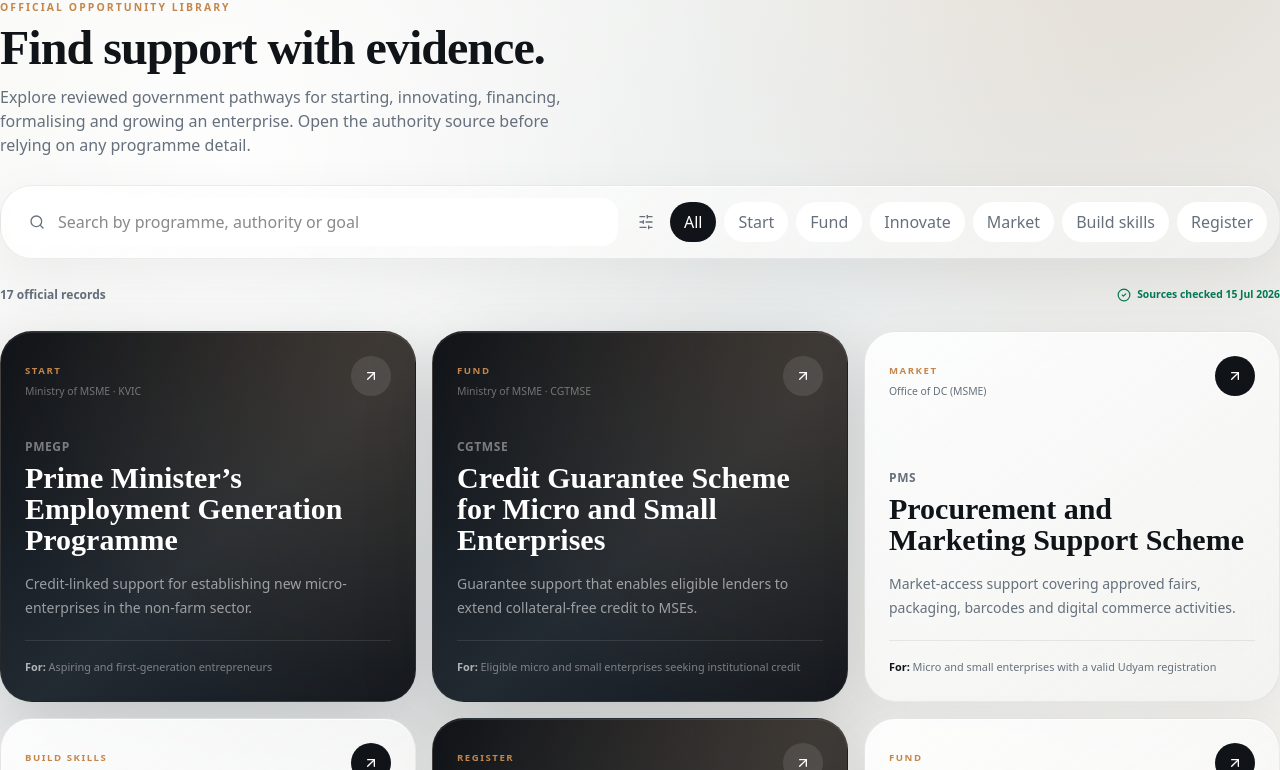
Test: official scheme discovery › returns a clear empty state for unmatched searches
Type "no such programme" into the search field named "Search official schemes".
click(315, 222); type("no such programme")  # box left=13, top=198, right=618, bottom=246
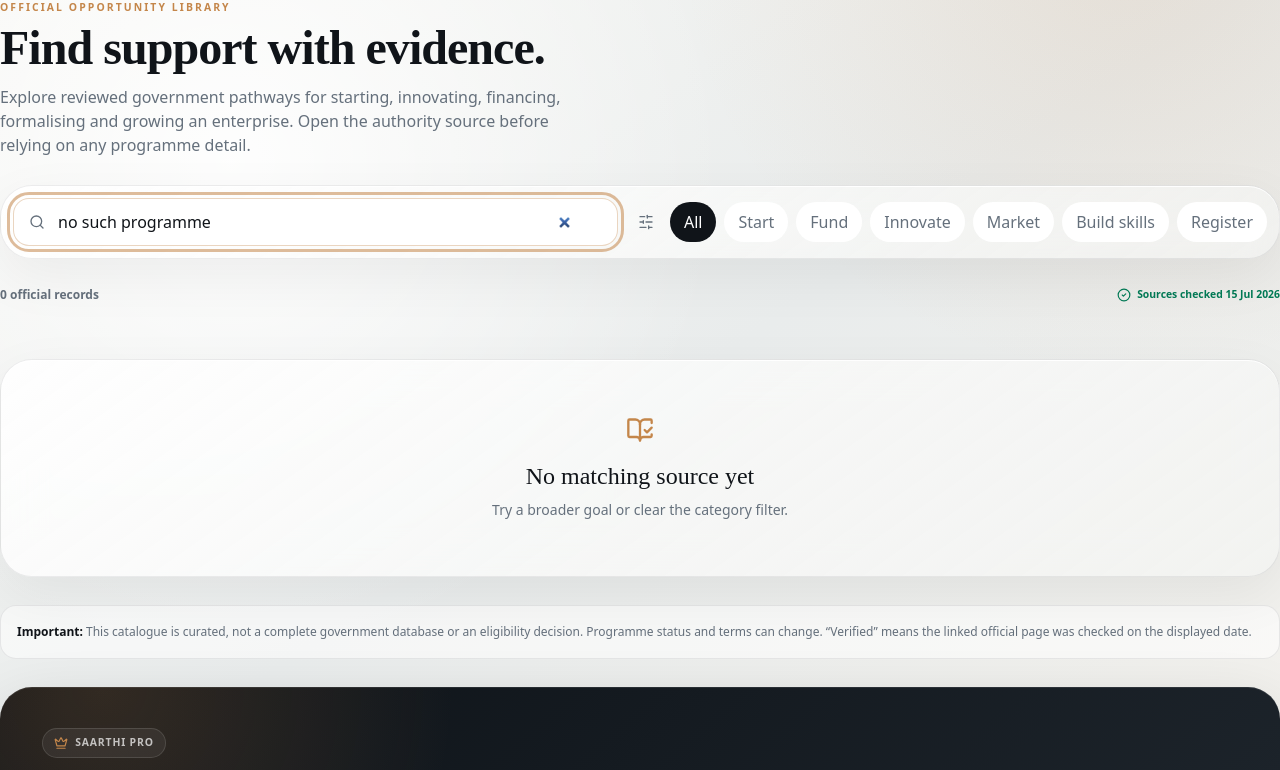
Check: the heading "No matching source yet" is shown, box left=526, top=463, right=754, bottom=489
